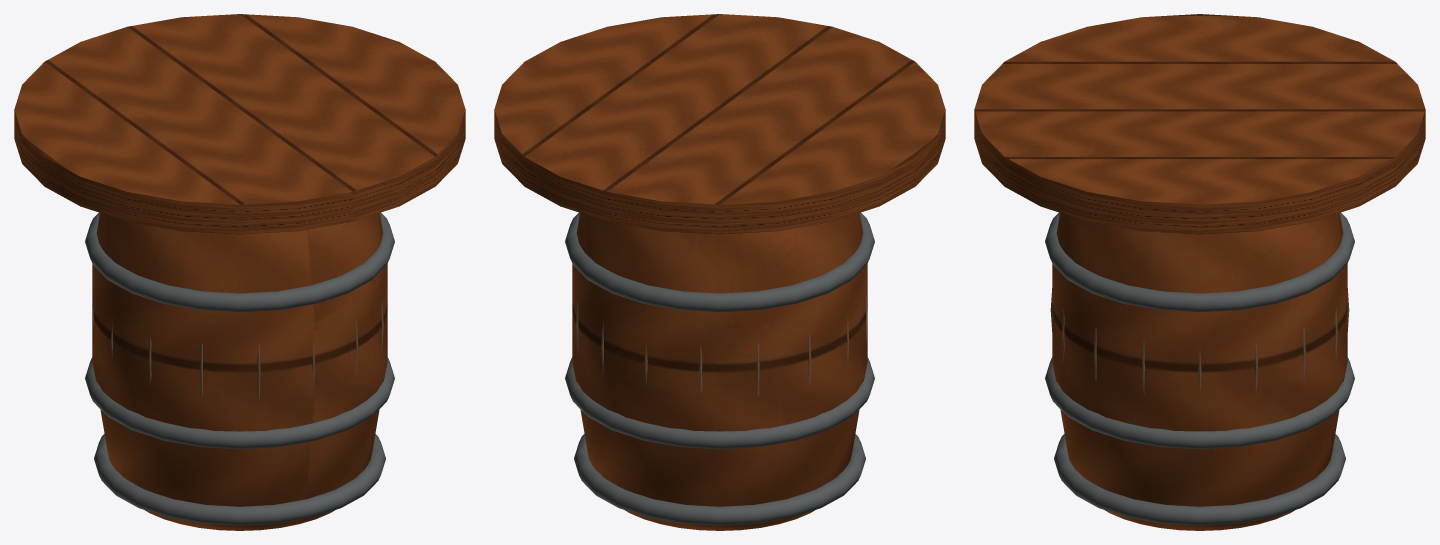
File: adventurers-tavern-and-guild-hall-barrel-table-ed2f2a6e__24690.glb
The picture shows the model from 3 angles, left to right: view 1: azimuth 30°, elevation 25°; view 2: azimuth 150°, elevation 25°; view 3: azimuth 270°, elevation 25°; orthographic projection.
Parts seen in each view (by area): view 1: barrel-table; view 2: barrel-table; view 3: barrel-table.
Part boxes in pixels (x1,y1,x2,y2): barrel-table: (14, 14, 465, 530); barrel-table: (494, 14, 945, 530); barrel-table: (974, 14, 1425, 530).
Bounding box in the file's own units: 1.1 × 1 × 1.1.
Materials: 3 (1 with a texture image).
